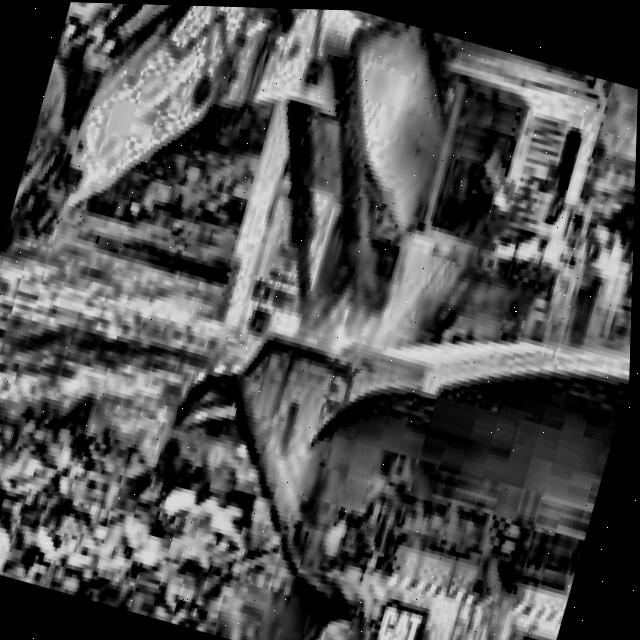dump_truck: (179, 220, 635, 640)
